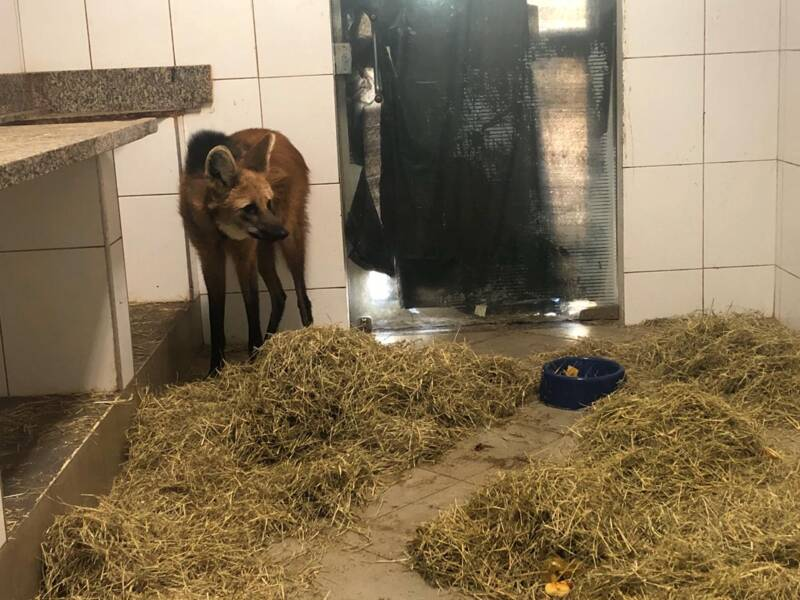LoboGuara: (177, 118, 336, 379)
